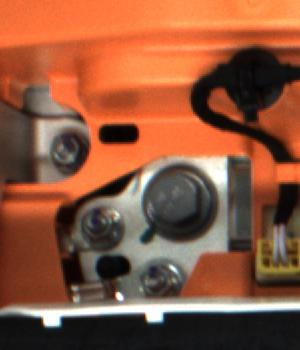nut_b: (135, 153, 223, 246)
